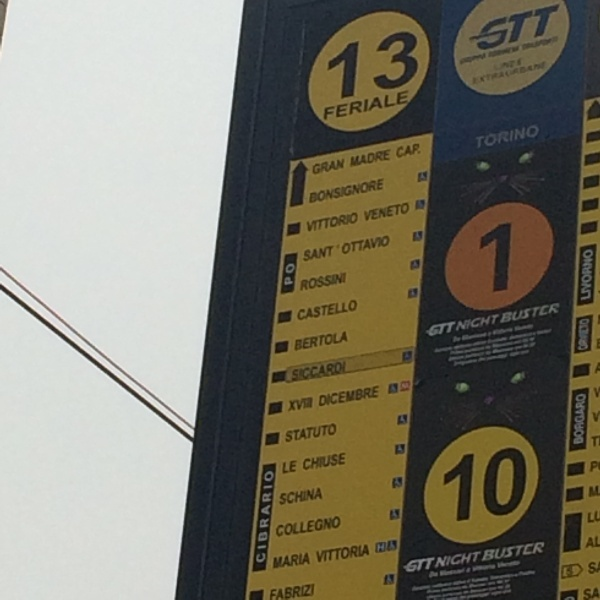text: (449, 447, 464, 525), (465, 447, 480, 525), (481, 447, 496, 525), (497, 447, 512, 525), (513, 447, 528, 525), (337, 28, 352, 103), (353, 28, 368, 103), (369, 28, 384, 103), (385, 28, 400, 103), (401, 28, 416, 103), (497, 222, 512, 292), (545, 4, 561, 53), (485, 222, 496, 292), (497, 4, 512, 53), (513, 4, 528, 53), (529, 4, 544, 53), (265, 471, 272, 565), (577, 393, 587, 447), (337, 89, 352, 122), (353, 89, 368, 122), (369, 89, 384, 122), (385, 89, 400, 122), (486, 4, 496, 53), (583, 250, 592, 302), (579, 319, 592, 352), (321, 178, 336, 206), (337, 178, 352, 206), (353, 178, 368, 206), (369, 178, 384, 206), (305, 236, 320, 264), (321, 236, 336, 264), (337, 236, 352, 264), (353, 236, 368, 264), (369, 236, 384, 264), (324, 89, 336, 122), (481, 61, 496, 87), (497, 61, 512, 87), (513, 61, 528, 87), (529, 61, 544, 87), (305, 358, 320, 383), (321, 358, 336, 383), (481, 126, 496, 151), (497, 126, 512, 151), (513, 126, 528, 151), (305, 299, 320, 323), (321, 299, 336, 323), (337, 299, 352, 323), (321, 385, 336, 409), (337, 385, 352, 409), (353, 385, 368, 409), (305, 331, 320, 354), (321, 331, 336, 354), (289, 517, 304, 540), (305, 517, 320, 540), (321, 517, 336, 540), (321, 424, 337, 445), (401, 89, 411, 122), (305, 271, 320, 293), (321, 271, 336, 293), (353, 149, 368, 170), (369, 149, 384, 170), (369, 202, 384, 223), (385, 202, 400, 223), (289, 424, 304, 445), (305, 424, 320, 445), (321, 544, 336, 565), (337, 544, 352, 565), (353, 544, 368, 565), (309, 178, 320, 206), (529, 541, 545, 560), (292, 358, 304, 383), (289, 488, 304, 508), (305, 488, 320, 508), (305, 453, 320, 473), (321, 453, 336, 473), (321, 213, 336, 233), (337, 213, 352, 233), (545, 302, 561, 320), (273, 552, 288, 571), (289, 552, 304, 571), (465, 314, 480, 333), (481, 314, 496, 333), (417, 557, 432, 576), (449, 551, 464, 570), (465, 551, 480, 570), (306, 213, 320, 233), (337, 331, 349, 354), (497, 547, 512, 565), (321, 159, 336, 176), (401, 143, 416, 160), (513, 308, 528, 325), (289, 397, 304, 414), (277, 517, 288, 540), (337, 358, 347, 383), (529, 126, 539, 151), (515, 541, 528, 560), (273, 584, 288, 600), (289, 584, 304, 600), (433, 322, 448, 338), (369, 385, 379, 409), (333, 28, 336, 103), (532, 302, 544, 320), (484, 547, 496, 565), (529, 37, 544, 51), (497, 58, 512, 72), (295, 331, 304, 354), (337, 271, 346, 293), (465, 52, 480, 65), (438, 551, 448, 570), (401, 202, 410, 223), (273, 471, 275, 565), (497, 47, 511, 60), (473, 61, 480, 87), (337, 453, 346, 473), (289, 263, 296, 288), (502, 308, 512, 325), (545, 37, 557, 51), (305, 584, 315, 600), (280, 488, 288, 508), (289, 460, 298, 477), (417, 28, 419, 103), (513, 58, 523, 72), (385, 236, 390, 264), (337, 159, 345, 176), (305, 397, 313, 414), (305, 552, 312, 571), (409, 557, 416, 576), (566, 566, 576, 579), (449, 322, 457, 338), (385, 149, 391, 170), (475, 126, 480, 151), (299, 299, 304, 323), (313, 159, 320, 176), (337, 517, 342, 540), (458, 314, 464, 333), (593, 561, 600, 576), (488, 47, 496, 60), (282, 460, 288, 477), (353, 213, 358, 233), (593, 511, 600, 525), (593, 536, 600, 550), (353, 299, 357, 323), (584, 588, 592, 600), (417, 143, 422, 160), (364, 202, 368, 223), (316, 544, 320, 565), (522, 37, 528, 51), (593, 436, 600, 448), (593, 487, 599, 501), (376, 544, 384, 554), (481, 52, 487, 65), (593, 461, 599, 474), (593, 411, 600, 422), (497, 314, 501, 333), (593, 588, 599, 600), (594, 387, 600, 398), (433, 557, 436, 576), (513, 46, 520, 54), (588, 511, 592, 525), (588, 536, 592, 550), (460, 52, 464, 65), (545, 61, 547, 87), (593, 250, 594, 302), (397, 143, 400, 160), (529, 308, 532, 325), (302, 271, 304, 293), (286, 424, 288, 445), (369, 544, 371, 565), (597, 361, 600, 375), (321, 488, 323, 508), (513, 547, 515, 565), (270, 584, 272, 600), (430, 322, 432, 338), (590, 561, 592, 576), (494, 58, 496, 72), (590, 487, 592, 501), (590, 461, 592, 474), (351, 149, 352, 170), (481, 551, 482, 570), (591, 436, 592, 448), (385, 544, 386, 554), (511, 46, 512, 54)
